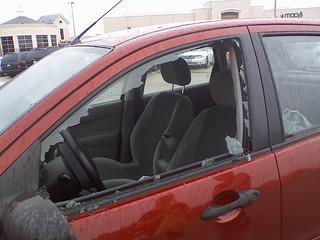doorouter-dent: (41, 37, 249, 239)
